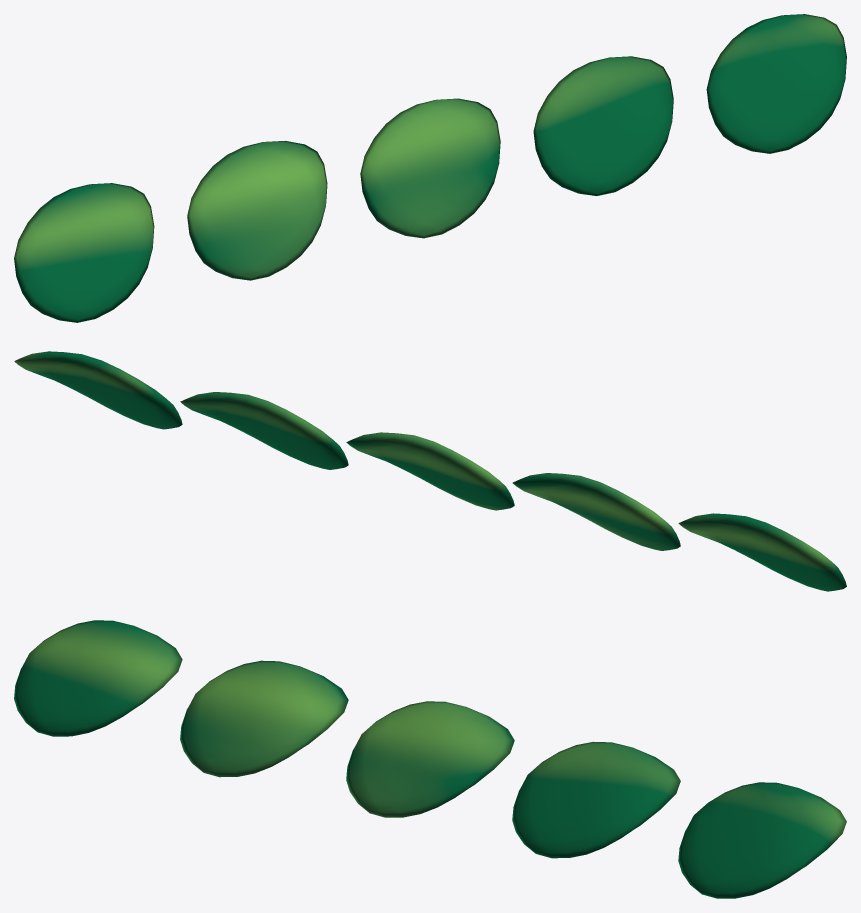
Rendered from Comforter.fbx.
3 views of the same model, one above another, from view 1: azimuth 30°, elevation 25°; view 2: azimuth 150°, elevation 25°; view 3: azimuth 330°, elevation 25° (orthographic). The views are drawn at different scales.
Visible parts, largest first — view 1: Comforter; view 2: Comforter; view 3: Comforter.
Boxes of the visible parts, box(x1,y1,x2,y2) form: Comforter: box(14, 14, 846, 322); Comforter: box(14, 351, 846, 591); Comforter: box(14, 620, 846, 898).
Size of the model in its own units: 0.7296 by 0.07 by 0.079.
1 material, 1 textured.
